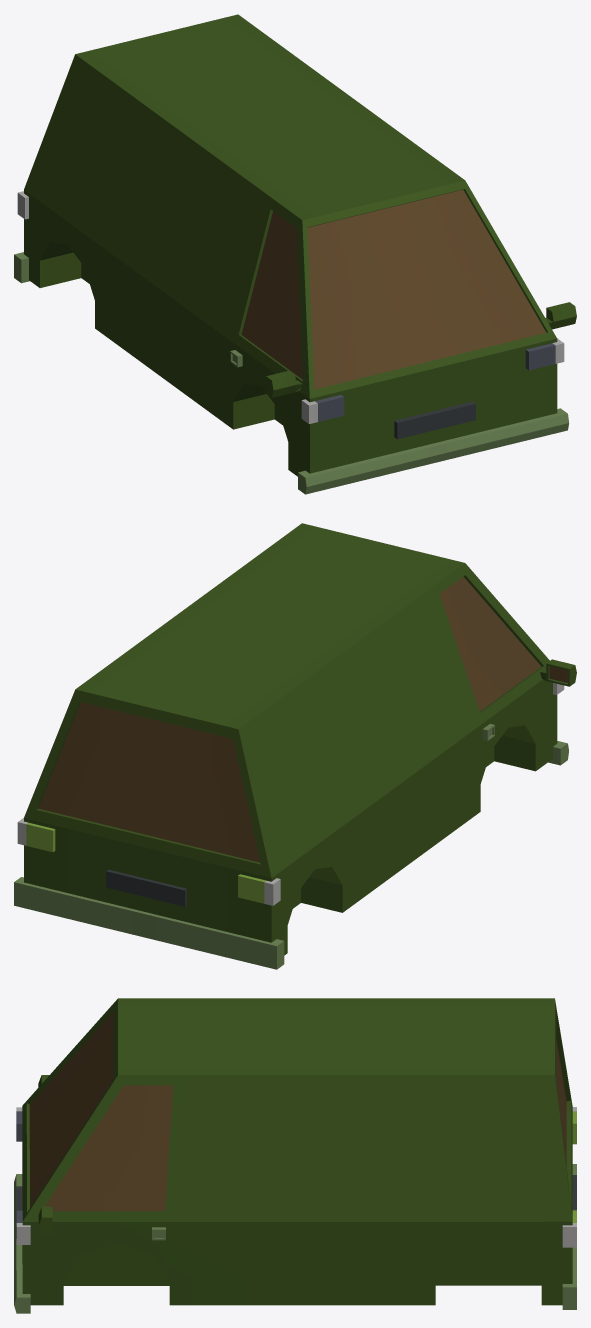
File: Car_24.fbx
3 renders of one model, top to bottom at view 1: azimuth 30°, elevation 25°; view 2: azimuth 150°, elevation 25°; view 3: azimuth 270°, elevation 25°, orthographic. The views are drawn at different scales.
Visible parts, largest first — view 1: Car_24; view 2: Car_24; view 3: Car_24.
Boxes of the visible parts, x1=… form: Car_24: x1=14, y1=14, x2=576, y2=494; Car_24: x1=14, y1=523, x2=576, y2=969; Car_24: x1=14, y1=998, x2=576, y2=1313.
Bounding box in the file's own units: 2.14 × 1.51 × 3.57.
